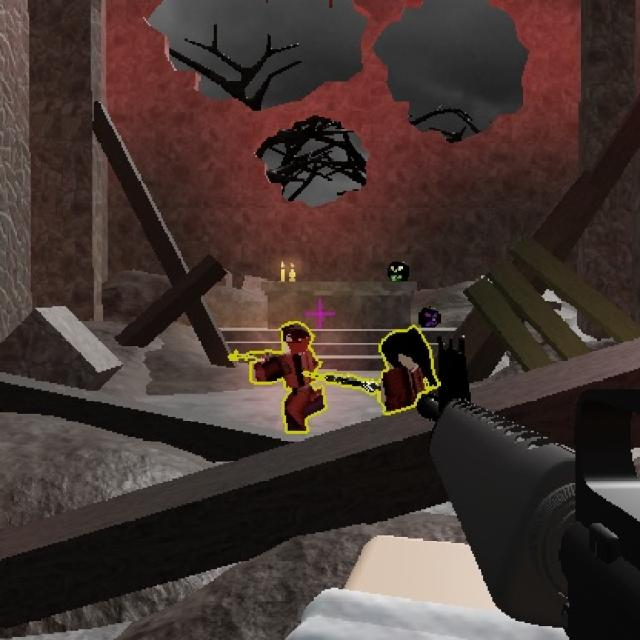player: (255, 315, 329, 427), (372, 322, 438, 404)
